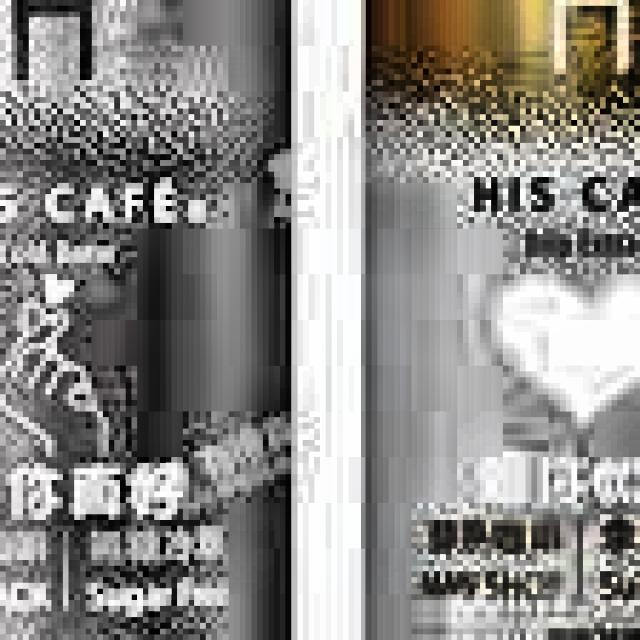metal: (0, 0, 314, 640), (331, 0, 640, 640)
